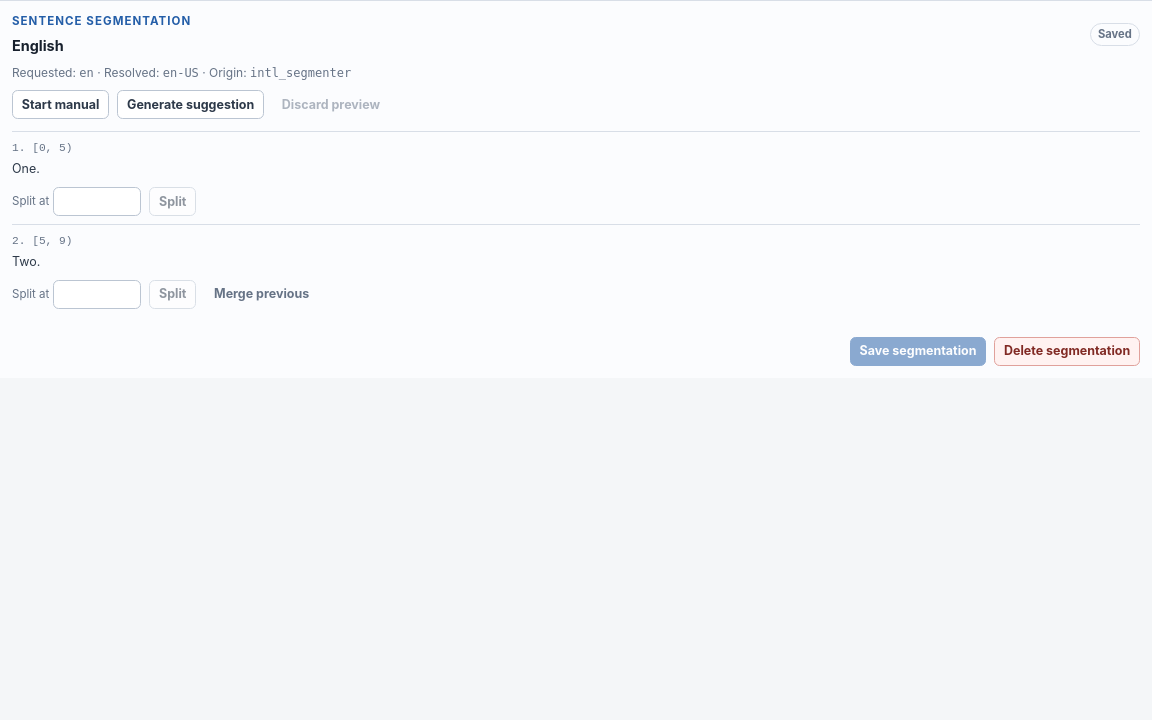
Scenario: SegmentationPanel › reloads an authoritative partition, merges adjacent rows, and confirms delete
Check: the text "Saved" is shown, box [1090,23,1140,46]
Check: the text "2. [5, 9)" is shown, box [12,235,72,247]
Click the button "Merge previous" at (262, 295), box [204,280,319,309]
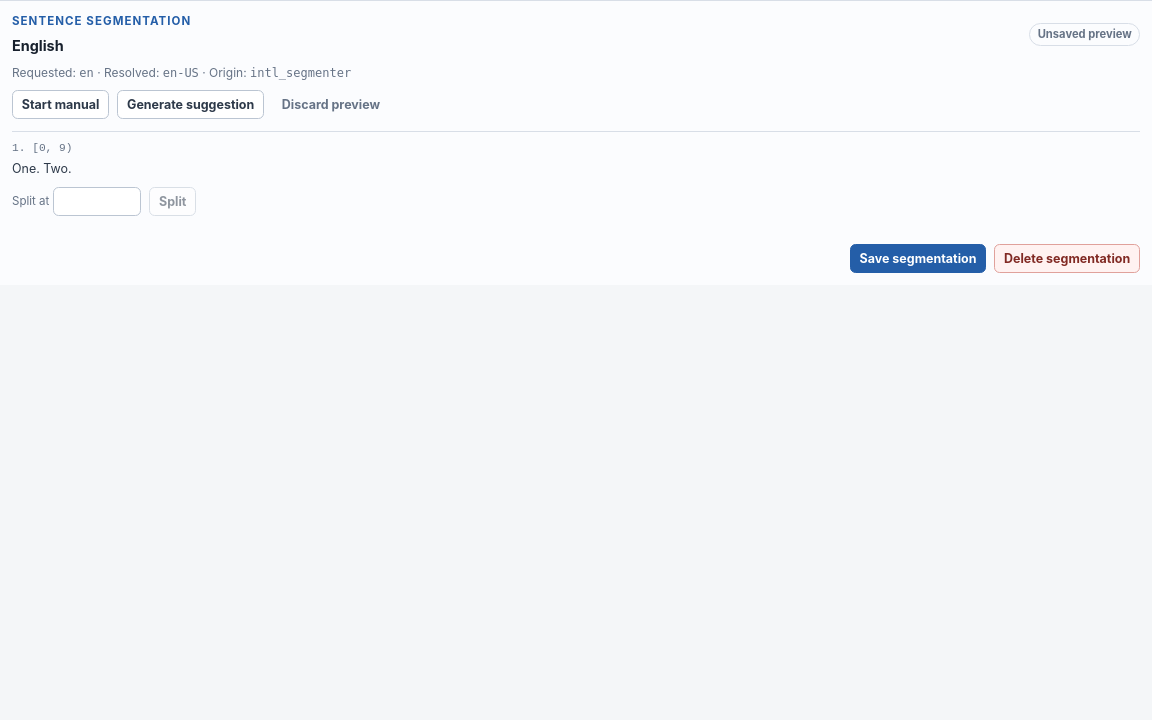
Check: the text "1. [0, 9)" is shown, box [12,142,72,154]
Click the button "Delete segmentation" at (1067, 259), box [994,244,1140,273]
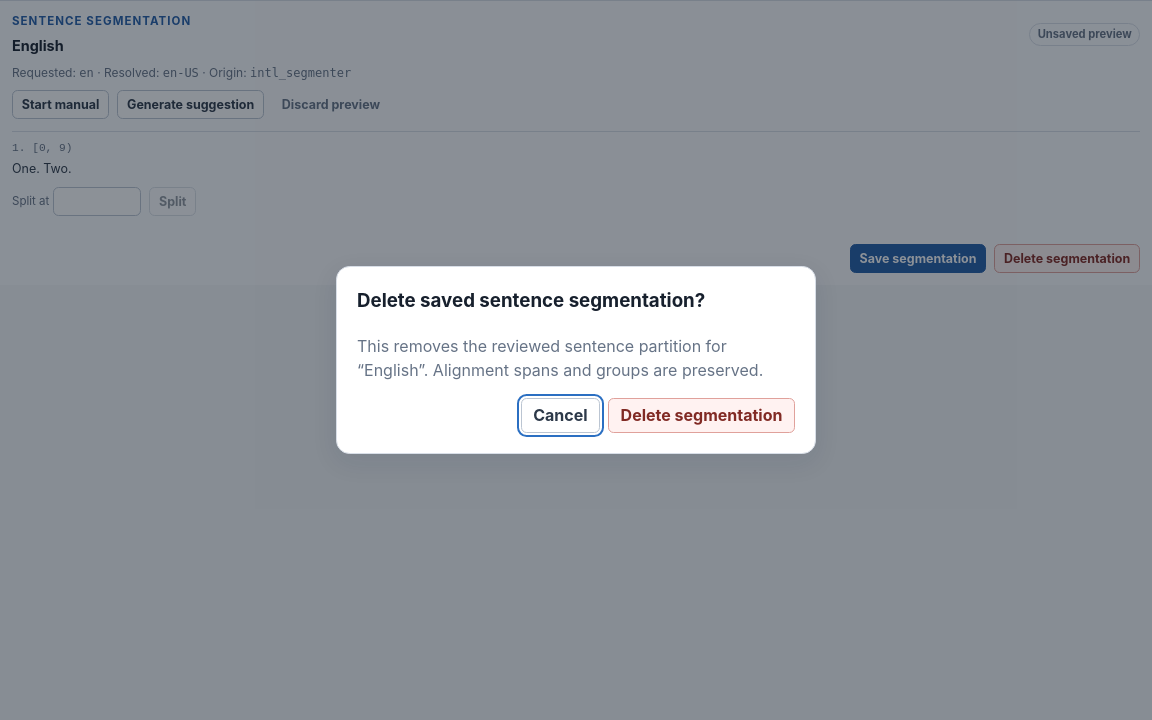
Check: the dialog shows "Alignment spans and groups are preserved", box [418,360,763,380]
Click the button "Delete segmentation" at (702, 415), box [608,398,795,433]
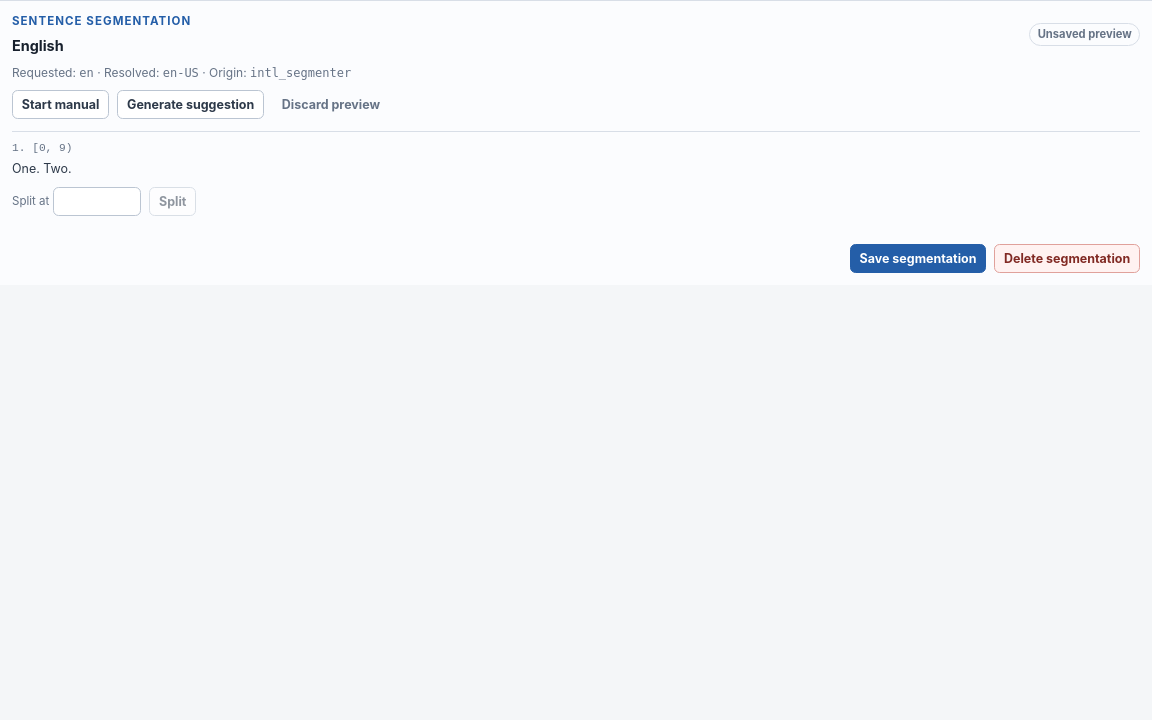
Check: the dialog is gone
